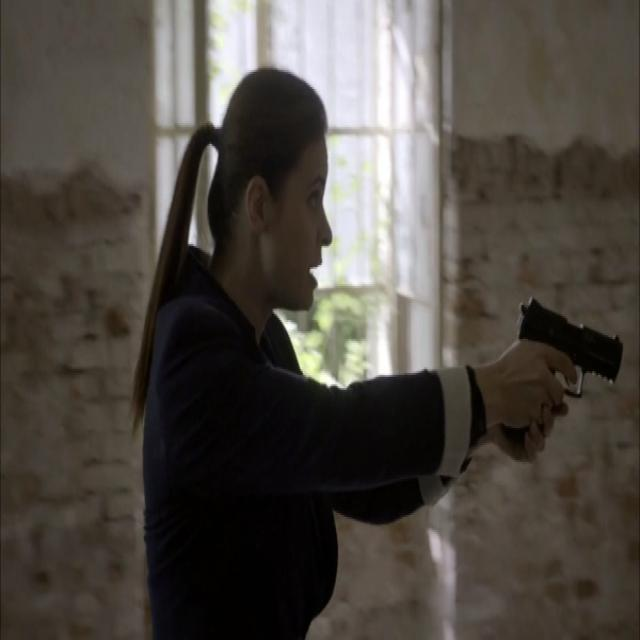weapons: (492, 276, 634, 492)
